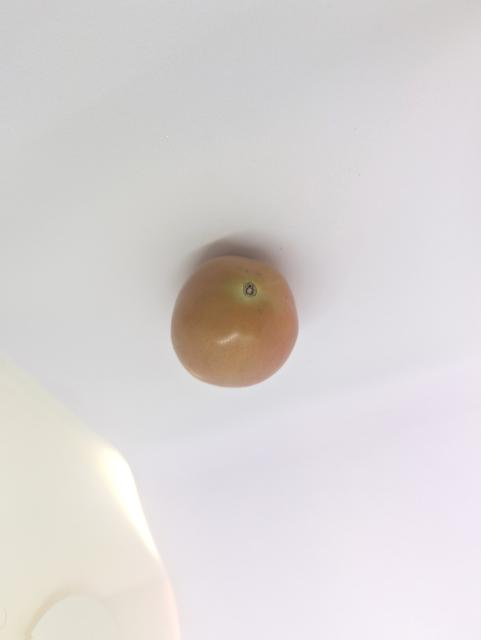turning: (166, 254, 307, 392)
